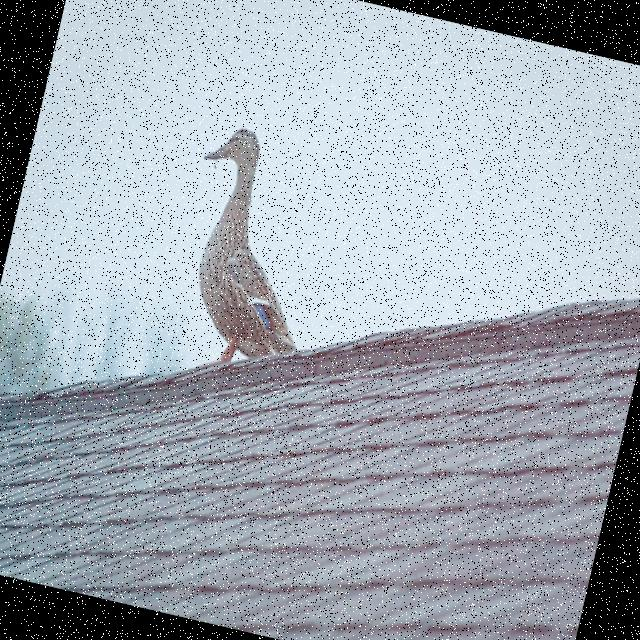bird: (156, 119, 344, 386)
